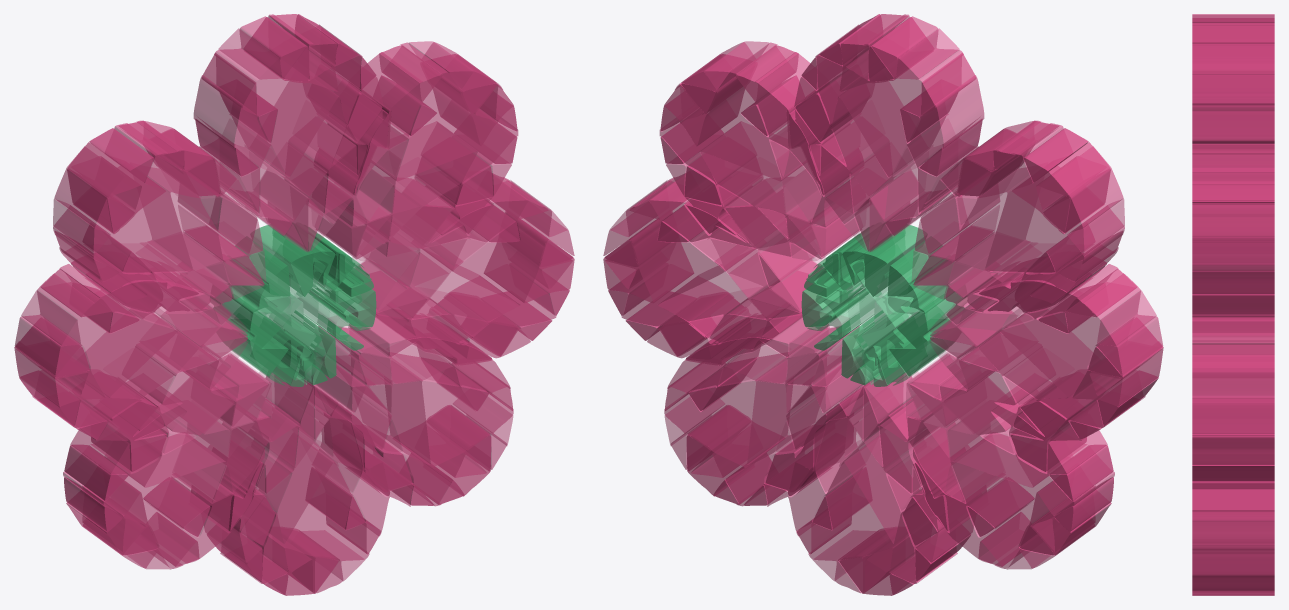
The model's file is glass red flower.glb.
3 renders of one model, left to right at view 1: azimuth 30°, elevation 25°; view 2: azimuth 150°, elevation 25°; view 3: azimuth 270°, elevation 25°, orthographic.
Visible parts, largest first — view 1: Model; view 2: Model; view 3: Model.
Part boxes in pixels (x1,y1,x2,y2): Model: [14, 14, 574, 595]; Model: [603, 14, 1163, 595]; Model: [1192, 14, 1274, 595].
Size of the model in its own units: 73.8 by 74.78 by 10.
